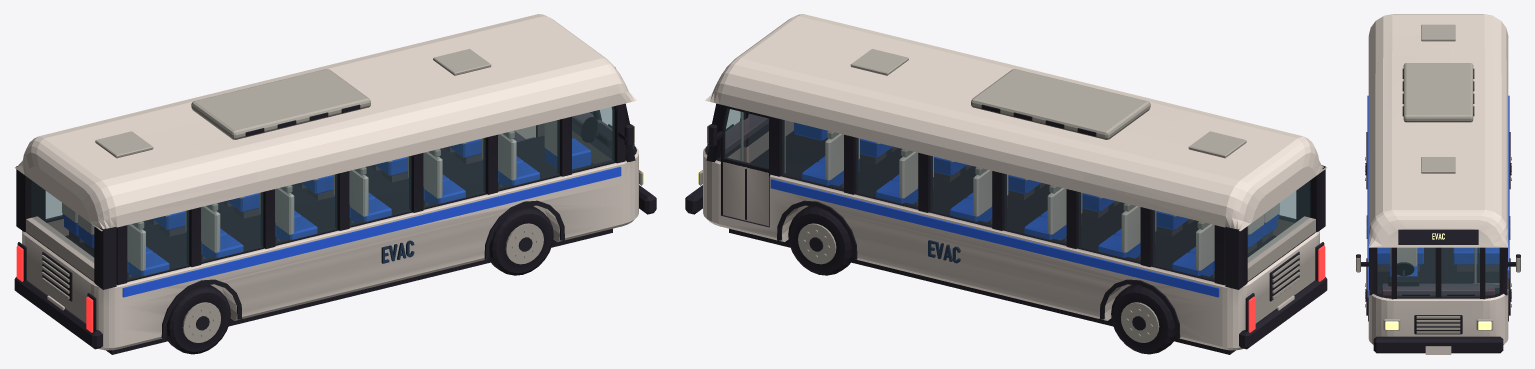
Rendered from veh.evac-bus.glb.
The picture shows the model from 3 angles, left to right: view 1: azimuth 30°, elevation 25°; view 2: azimuth 150°, elevation 25°; view 3: azimuth 270°, elevation 25°; orthographic projection. The views are drawn at different scales.
Parts seen in each view (by area): view 1: body, wheelFL, wheelRL, lightsBrake; view 2: body, doorR, wheelFR, wheelRR, lightsBrake; view 3: body, lightsFront.
Part boxes in pixels (bbox=[...]): body: bbox=[14, 14, 656, 354]; wheelFL: bbox=[488, 206, 553, 275]; wheelRL: bbox=[165, 284, 230, 354]; lightsBrake: bbox=[16, 245, 93, 332]; body: bbox=[685, 14, 1327, 354]; doorR: bbox=[721, 106, 770, 226]; wheelFR: bbox=[788, 206, 853, 275]; wheelRR: bbox=[1111, 284, 1176, 354]; lightsBrake: bbox=[1248, 245, 1325, 332]; body: bbox=[1356, 14, 1520, 354]; lightsFront: bbox=[1385, 321, 1491, 329].
Size of the model in its own units: 9.38 by 3.05 by 2.95.
